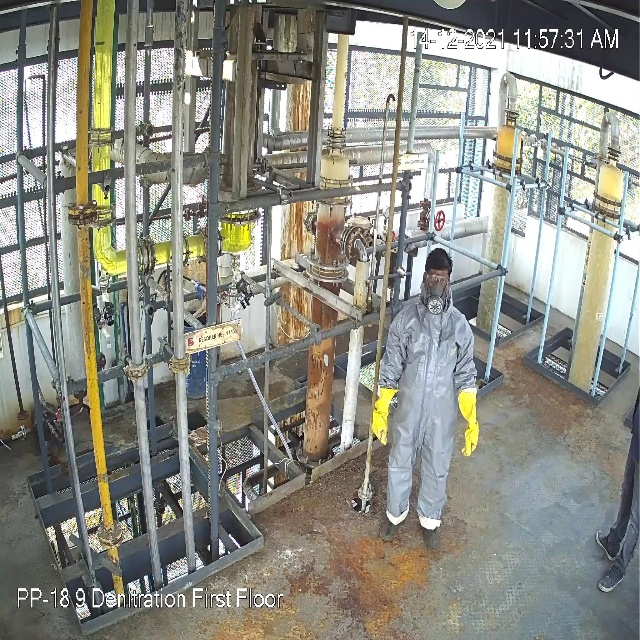Gafas: (425, 271, 448, 285)
Mascara: (422, 284, 448, 318)
